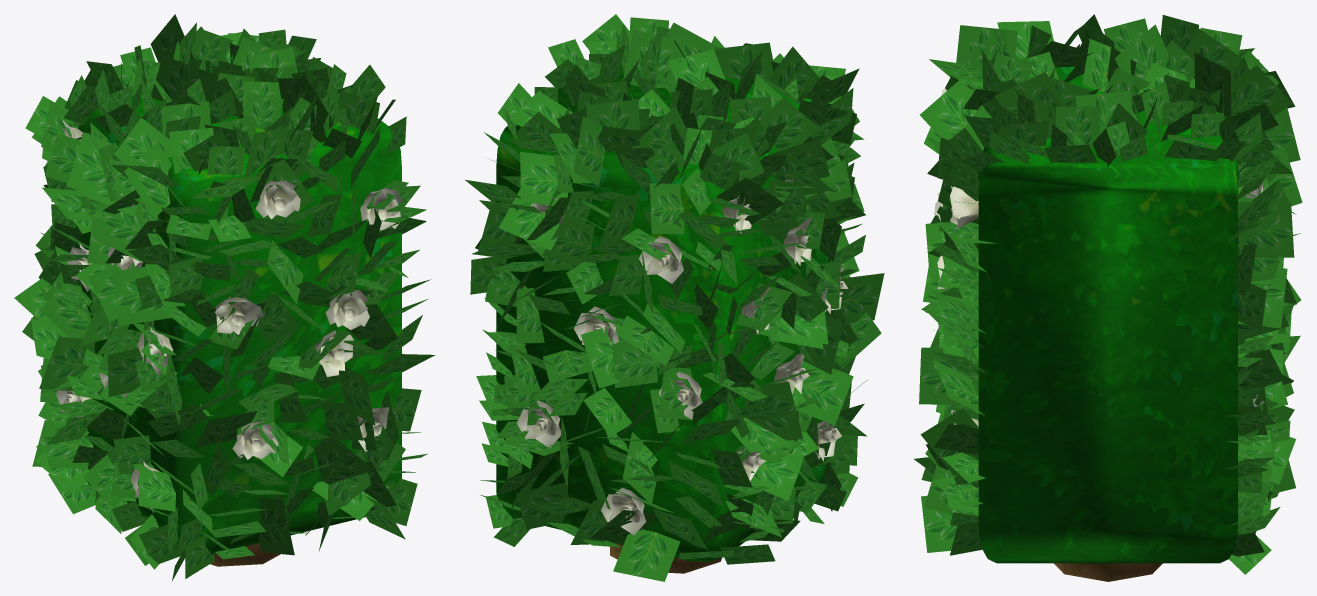
Rendered from sb_obj_outdoor012_Hedge03b.fbx.
3 renders of one model, left to right at view 1: azimuth 30°, elevation 25°; view 2: azimuth 150°, elevation 25°; view 3: azimuth 270°, elevation 25°, orthographic. The views are drawn at different scales.
Visible parts, largest first — view 1: leaf_plus_b, sb_obj_outdoor012_Hedge01b, 立方体.015, 立方体.019, 立方体.020, 立方体.017, 立方体.018, 立方体.016, rose_base.048, 立方体.021; view 2: leaf_plus_b, sb_obj_outdoor012_Hedge01b, rose_base.053, rose_base.057, rose_base.058, rose_base.054, rose_base.056, rose_base.049, rose_base.045, rose_base.051; view 3: sb_obj_outdoor012_Hedge01b, leaf_plus_b, 立方体.018.
Part boxes in pixels (<box>): leaf_plus_b: <box>14,14,435,580</box>; sb_obj_outdoor012_Hedge01b: <box>75,70,401,566</box>; 立方体.015: <box>325,290,369,330</box>; 立方体.019: <box>255,180,300,219</box>; 立方体.020: <box>215,296,263,334</box>; 立方体.017: <box>232,421,278,459</box>; 立方体.018: <box>360,188,402,230</box>; 立方体.016: <box>315,330,353,376</box>; rose_base.048: <box>137,327,173,374</box>; 立方体.021: <box>357,407,395,451</box>; leaf_plus_b: <box>465,14,884,581</box>; sb_obj_outdoor012_Hedge01b: <box>496,64,829,573</box>; rose_base.053: <box>639,236,683,283</box>; rose_base.057: <box>601,487,646,535</box>; rose_base.058: <box>517,400,560,447</box>; rose_base.054: <box>574,306,618,344</box>; rose_base.056: <box>659,371,702,419</box>; rose_base.049: <box>774,352,809,394</box>; rose_base.045: <box>783,217,811,265</box>; rose_base.051: <box>815,421,841,461</box>; sb_obj_outdoor012_Hedge01b: <box>978,66,1237,581</box>; leaf_plus_b: <box>914,14,1302,574</box>; 立方体.018: <box>950,186,978,230</box>.
Bounding box in the file's own units: 1.36 × 2.15 × 1.5.
